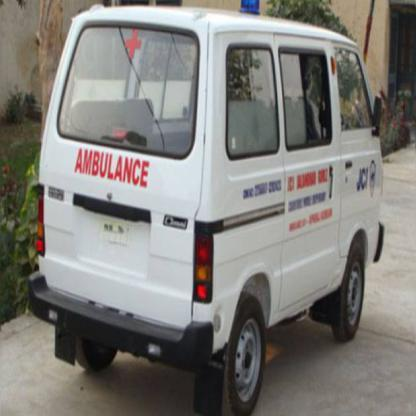Ambulance: (73, 143, 159, 195)
